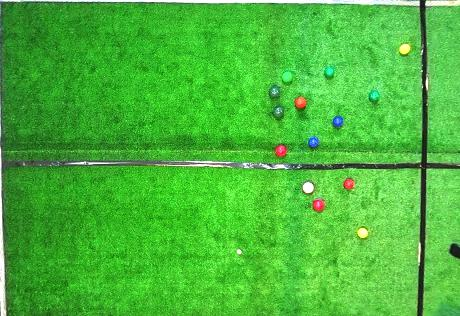blue: (333, 117, 343, 128), (308, 138, 319, 148)
green: (281, 71, 293, 82), (273, 106, 284, 118), (324, 67, 335, 78), (269, 86, 280, 97), (369, 91, 379, 102)
red: (275, 145, 287, 157), (312, 199, 324, 211), (295, 97, 306, 109), (303, 182, 314, 194), (343, 179, 354, 190)
vline: (416, 1, 460, 315), (0, 1, 11, 315)
white: (236, 249, 242, 254)
yellow: (399, 44, 411, 55), (357, 227, 368, 238)
